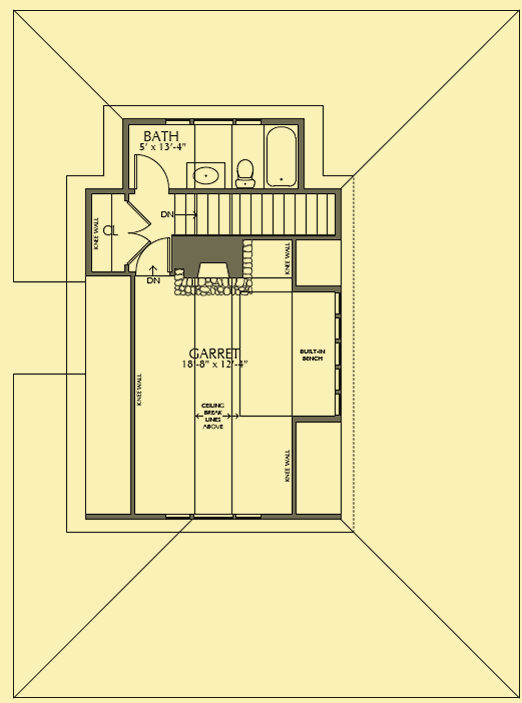bathroom has space for bathtub, small and large sinks: (124, 118, 306, 195)
